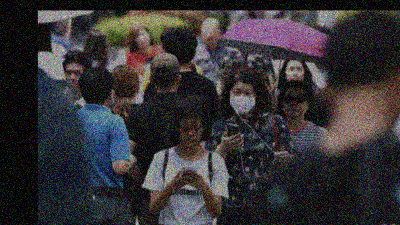with_mask: (227, 86, 256, 116)
without_mask: (281, 92, 307, 118), (178, 121, 202, 147), (63, 67, 83, 91), (285, 64, 306, 82), (134, 31, 150, 50)
